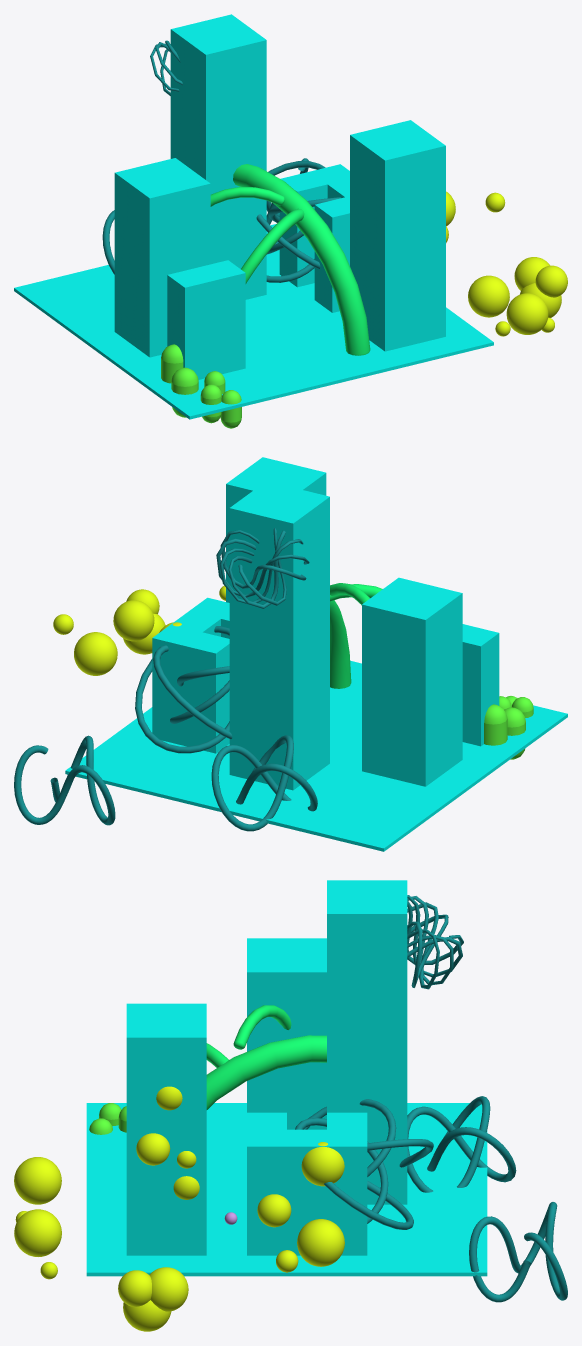
Rendered from mundo.obj.
The picture shows the model from 3 angles, top to bottom: view 1: azimuth 30°, elevation 25°; view 2: azimuth 150°, elevation 25°; view 3: azimuth 270°, elevation 25°; orthographic projection. The views are drawn at different scales.
Visible parts, largest first — view 1: Box001, ChamferCyl002, Torus_Knot003, Sphere012, Sphere013, ChamferCyl003, ChamferCyl001, Sphere005, Sphere006, OilTank005, Torus_Knot002, OilTank002 (+2 smaller); view 2: Box001, Torus_Knot004, Torus_Knot003, Torus_Knot002, Torus_Knot001, Sphere004, ChamferCyl002, Sphere006, OilTank002, Sphere007, OilTank005; view 3: Box001, ChamferCyl002, Torus_Knot003, Torus_Knot004, Torus_Knot001, Torus_Knot002, Sphere004, Sphere012, Sphere013, Sphere006, Sphere003, Sphere005 (+4 smaller).
Part boxes in pixels (bbox=[...]): Box001: bbox=[14, 14, 493, 419]; ChamferCyl002: bbox=[233, 164, 370, 355]; Torus_Knot003: bbox=[256, 161, 340, 282]; Sphere012: bbox=[468, 275, 509, 317]; Sphere013: bbox=[506, 293, 548, 334]; ChamferCyl003: bbox=[241, 208, 304, 283]; ChamferCyl001: bbox=[210, 187, 284, 206]; Sphere005: bbox=[535, 265, 567, 297]; Sphere006: bbox=[514, 257, 549, 290]; OilTank005: bbox=[171, 367, 198, 417]; Torus_Knot002: bbox=[150, 40, 182, 95]; OilTank002: bbox=[161, 344, 183, 383]; Box001: bbox=[65, 457, 567, 851]; Torus_Knot004: bbox=[211, 735, 317, 831]; Torus_Knot003: bbox=[135, 626, 232, 753]; Torus_Knot002: bbox=[216, 528, 309, 608]; Torus_Knot001: bbox=[14, 735, 115, 825]; Sphere004: bbox=[74, 632, 117, 675]; ChamferCyl002: bbox=[330, 600, 351, 688]; Sphere006: bbox=[113, 600, 154, 641]; OilTank002: bbox=[484, 704, 507, 745]; Sphere007: bbox=[123, 613, 165, 654]; OilTank005: bbox=[504, 707, 525, 759]; Box001: bbox=[86, 880, 487, 1276]; ChamferCyl002: bbox=[206, 1035, 326, 1109]; Torus_Knot003: bbox=[295, 1099, 433, 1229]; Torus_Knot004: bbox=[407, 1096, 516, 1192]; Torus_Knot001: bbox=[469, 1202, 567, 1302]; Torus_Knot002: bbox=[407, 895, 463, 989]; Sphere004: bbox=[297, 1219, 344, 1266]; Sphere012: bbox=[14, 1157, 61, 1204]; Sphere013: bbox=[14, 1209, 61, 1256]; Sphere006: bbox=[149, 1267, 188, 1311]; Sphere003: bbox=[301, 1142, 344, 1186]; Sphere005: bbox=[118, 1270, 151, 1306].
Size of the model in its own units: 5204 by 3491 by 5440.
